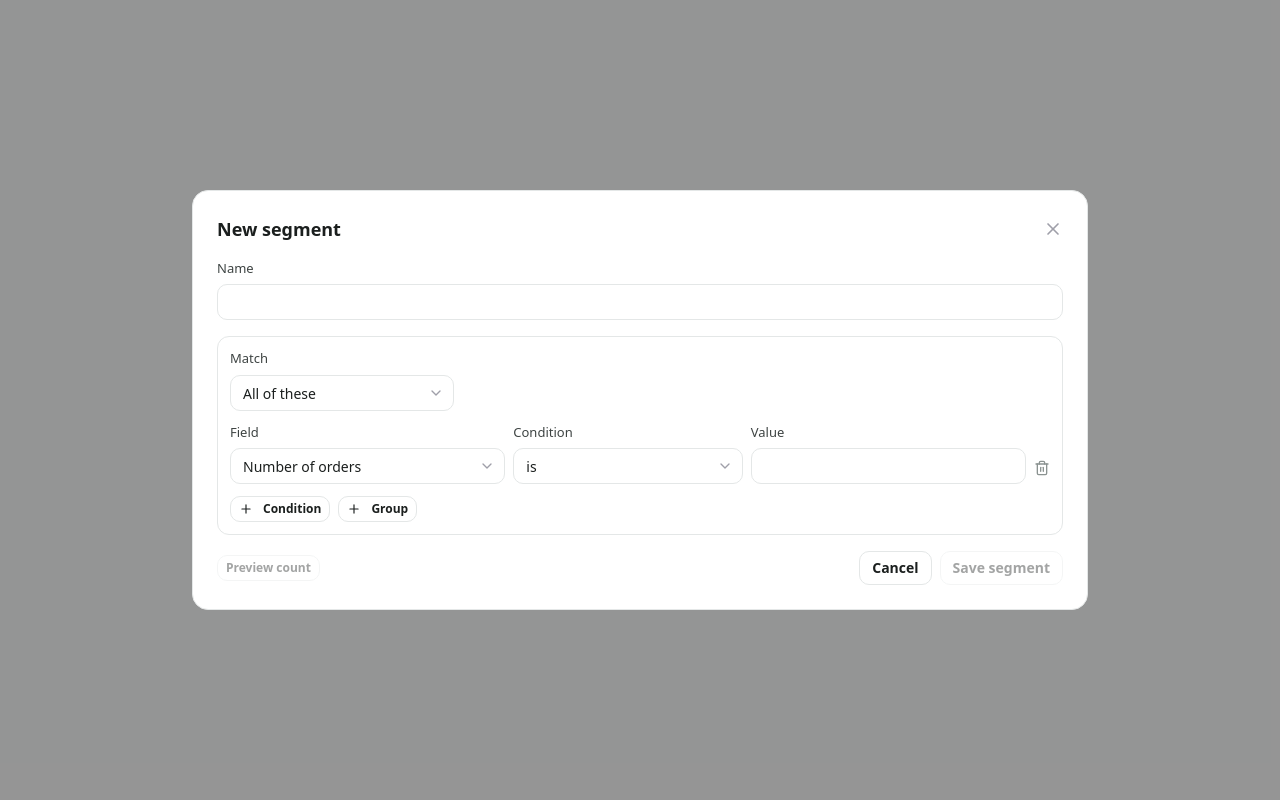
Test: SegmentBuilderModal › cannot preview or save until the condition has a value and the segment a name
This screenshot has width=1280, height=800.
Expected: the button "Preview count" is disabled, [217,555,320,581]
Expected: the button "Save segment" is disabled, [940,551,1063,585]
Step 1. Type "3" into the field labelled "Value" → (888, 466), box [751,448,1026,484]
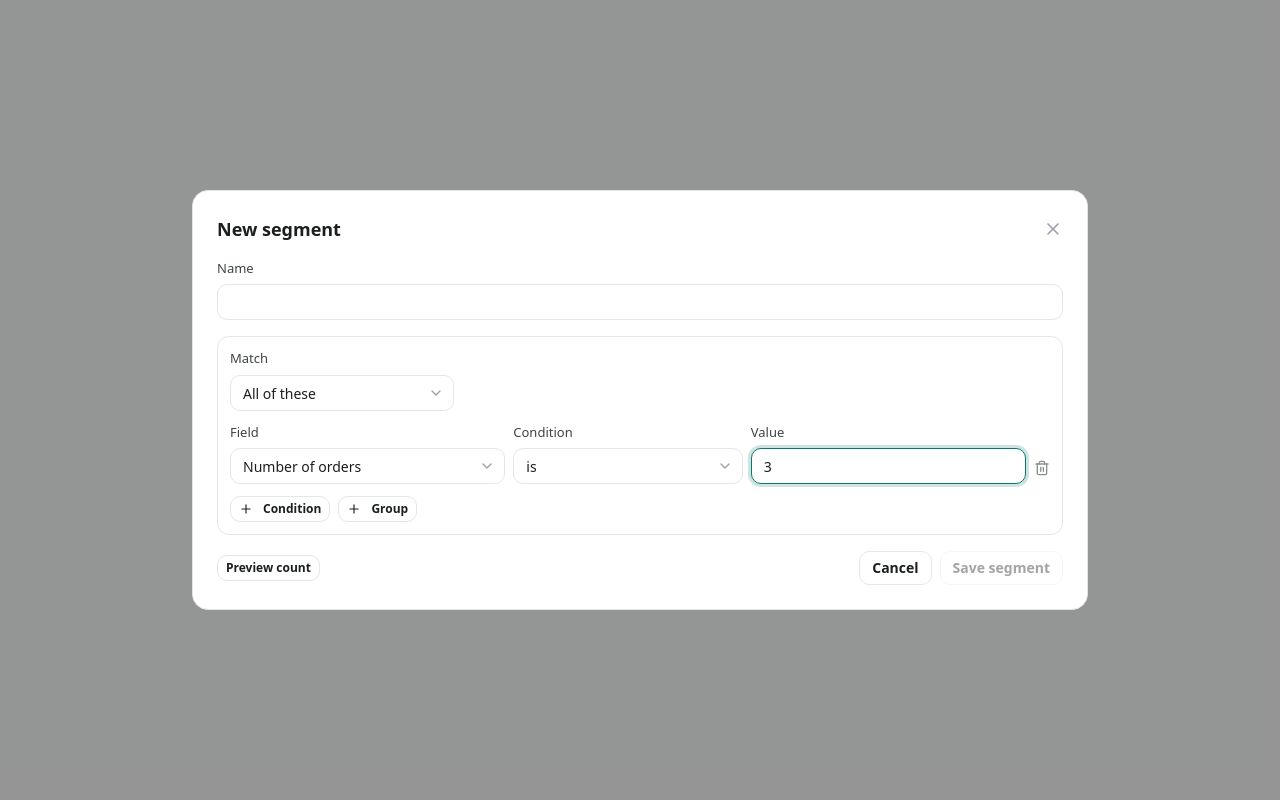
Expected: the button "Save segment" is disabled, [940,551,1063,585]
Result: the button "Preview count" is enabled at [217,555,320,581]
Step 2. Type "Repeat buyers" into the field labelled "Name" → (640, 302), box [217,284,1063,320]
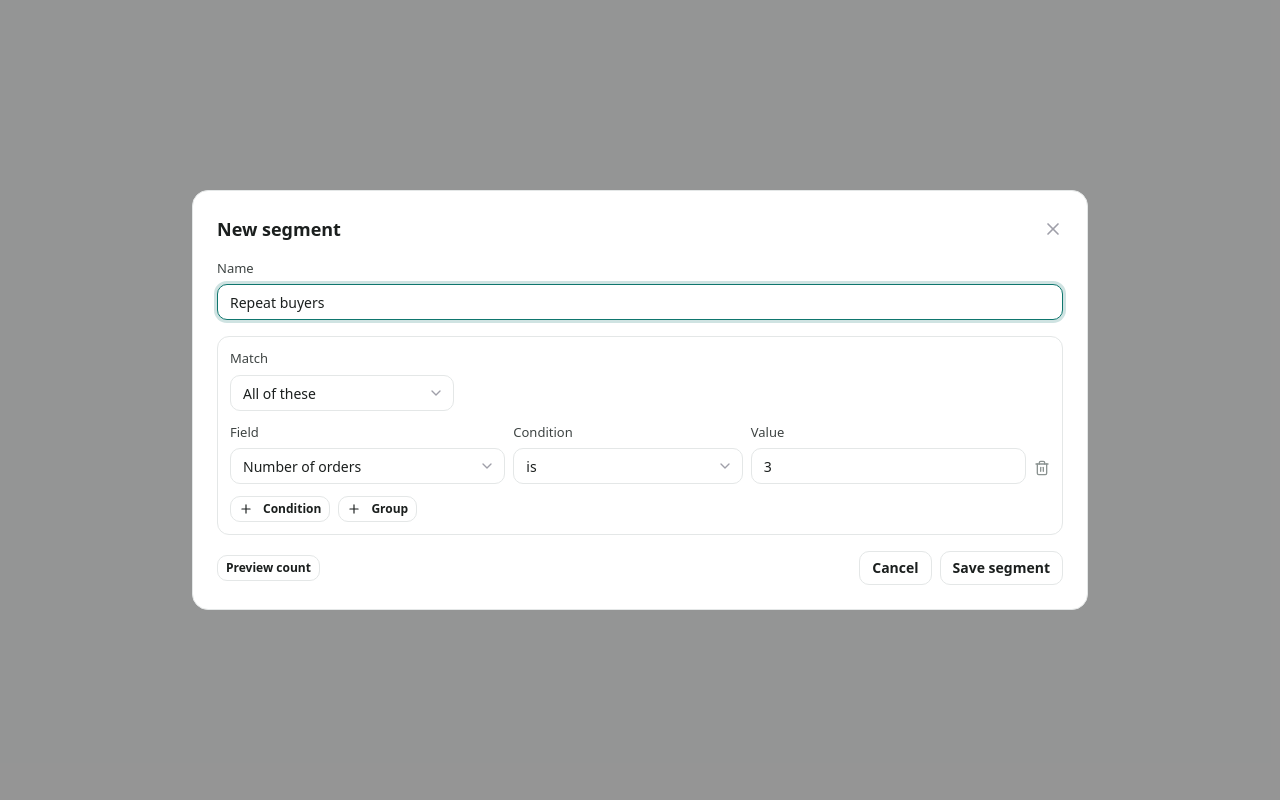
Result: the button "Save segment" is enabled at [940,551,1063,585]
